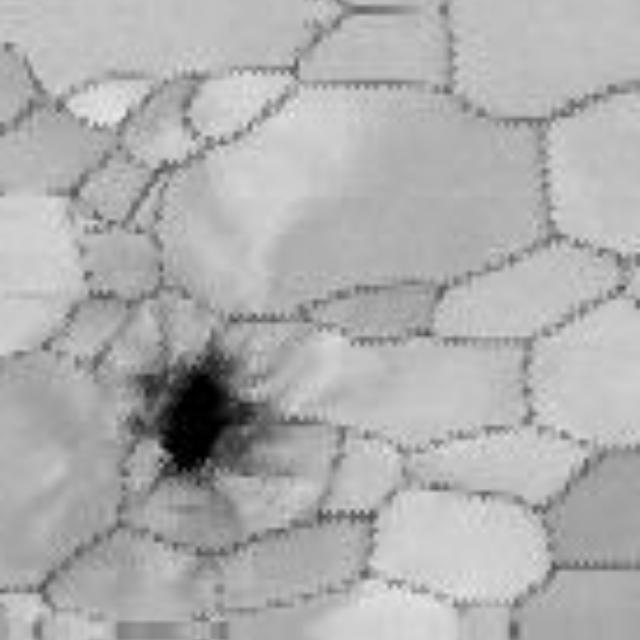good_void: (120, 322, 288, 495)
